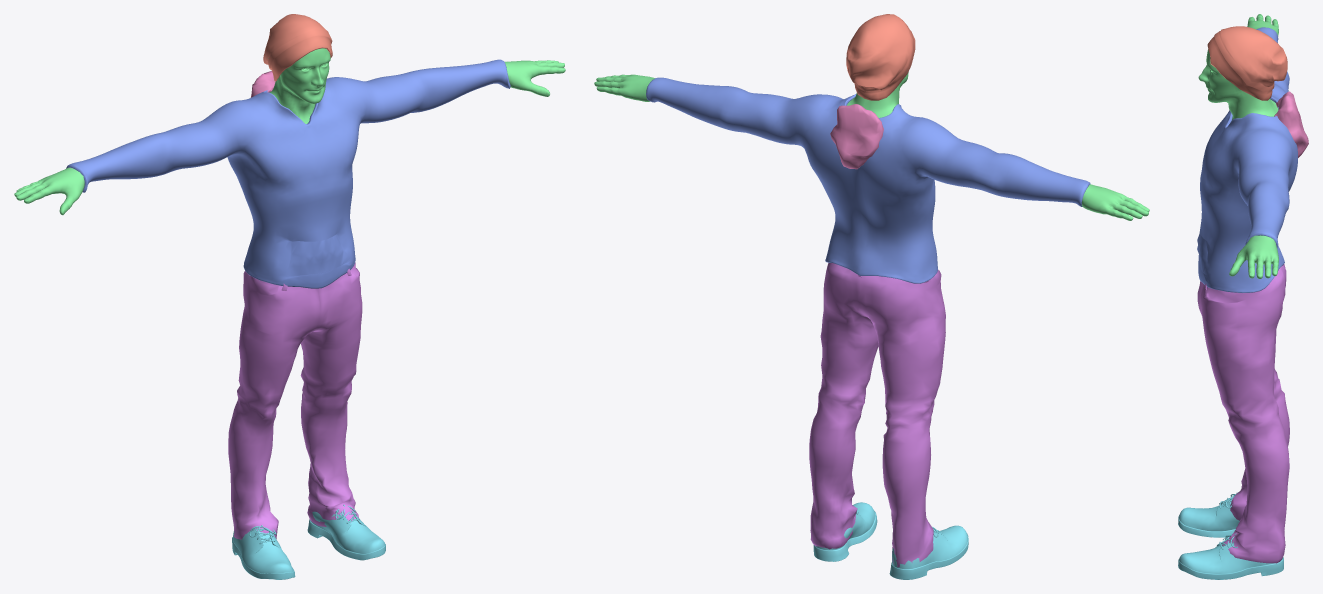
The model's file is Player_1.fbx.
The picture shows the model from 3 angles, left to right: view 1: azimuth 30°, elevation 25°; view 2: azimuth 150°, elevation 25°; view 3: azimuth 270°, elevation 25°; orthographic projection. The views are drawn at different scales.
Visible parts, largest first — view 1: Body1; view 2: Body1; view 3: Body1.
Part boxes in pixels (box(x1,y1,x2,y2)): Body1: box(14, 14, 565, 579); Body1: box(594, 14, 1149, 579); Body1: box(1178, 14, 1308, 579).
Bounding box in the file's own units: 194 × 180 × 40.88.
